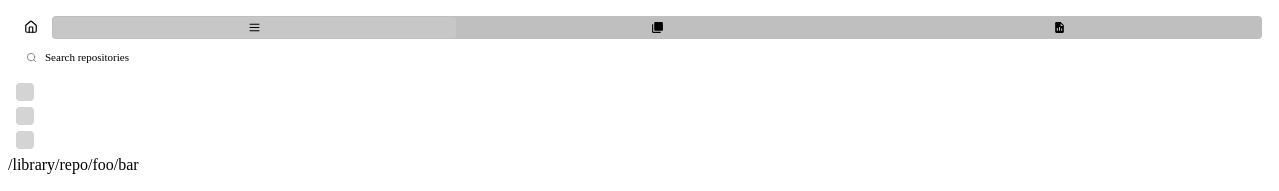
Test: LibrarySidebar — search › filters by owner substring
Type "playc" into the field with placeholder "Search repositories". click: (648, 57)
box: 43,50 -> 1254,64
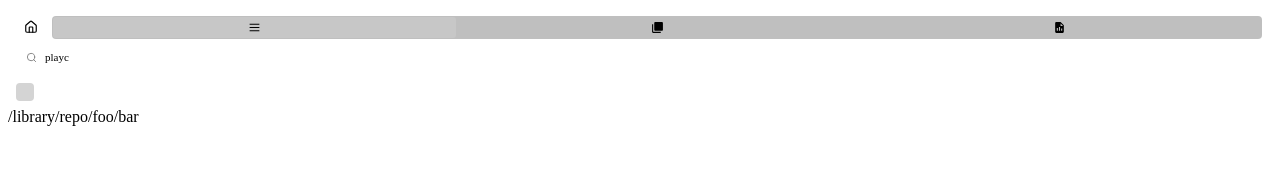
Result: the button "material-ui" is gone
